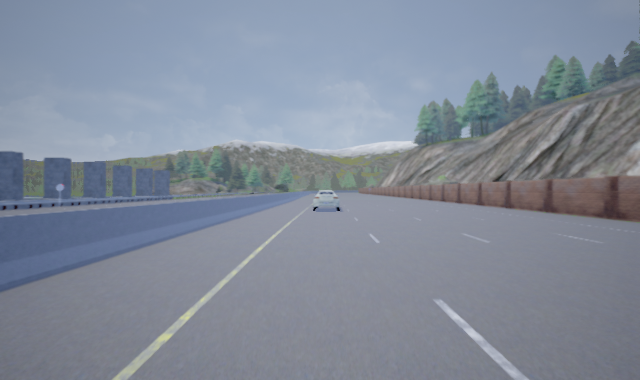vehicle: (312, 189, 340, 211)
